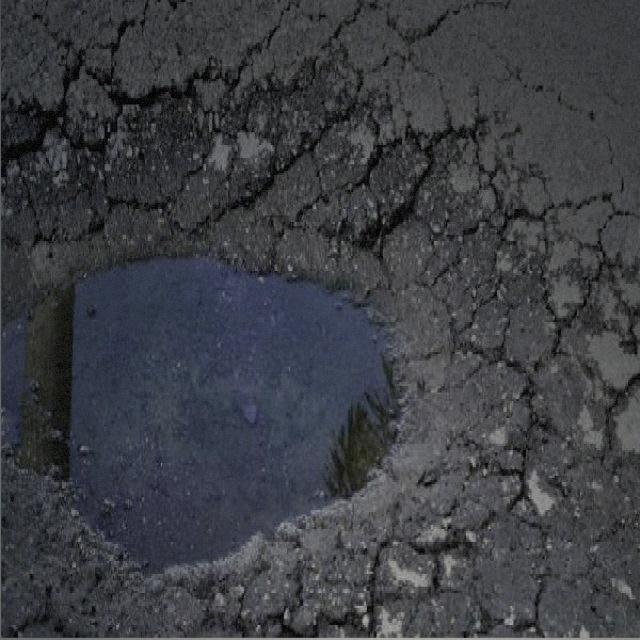pothole: (0, 109, 466, 578)
